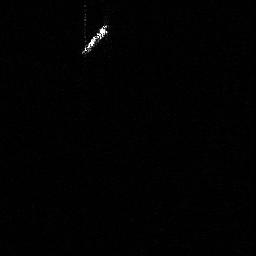ship: (77, 20, 112, 58)
